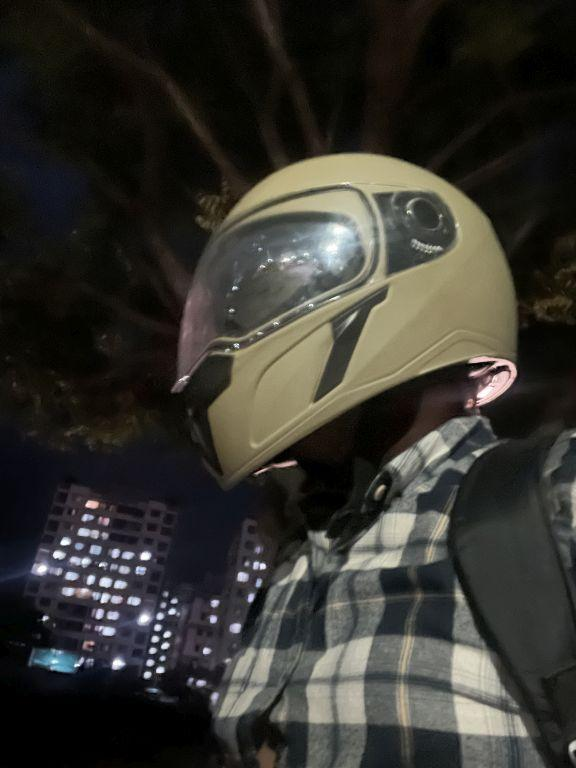helmet: (162, 137, 534, 506)
